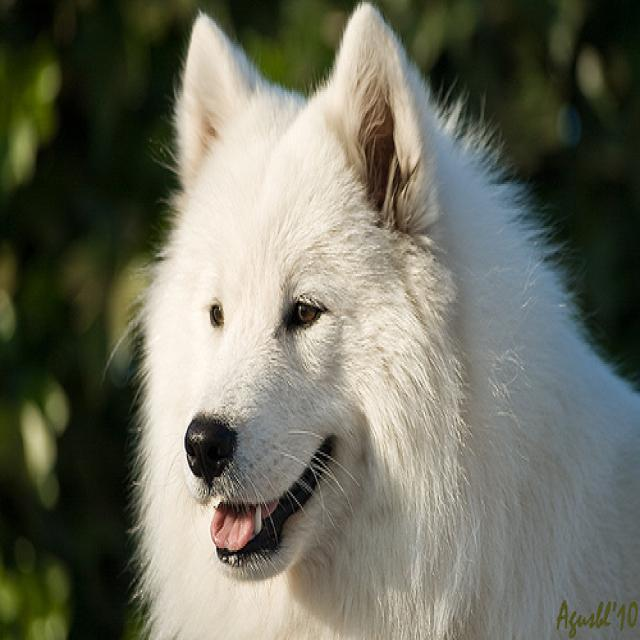dog-samoyed: (123, 2, 637, 636)
